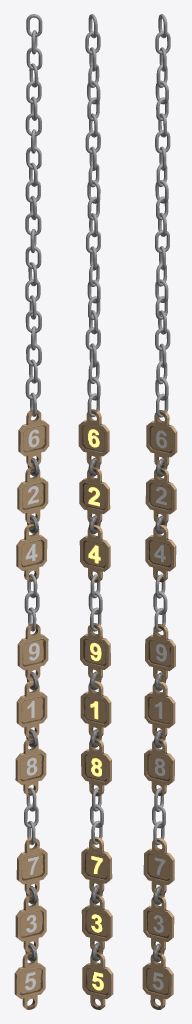
Rendered from lines.glb.
3 views of the same model, side by side, from view 1: azimuth 30°, elevation 25°; view 2: azimuth 150°, elevation 25°; view 3: azimuth 330°, elevation 25° (orthographic).
Parts seen in each view (by area): view 1: chain.001, chain, lines_5, lines_9, lines_6, lines_8, lines_1, lines_7, lines_2, lines_3, lines_4; view 2: chain.001, chain, lines_5, lines_6, lines_1, lines_7, lines_8, lines_4, lines_9, lines_3, lines_2; view 3: chain.001, chain, lines_5, lines_6, lines_7, lines_1, lines_4, lines_9, lines_3, lines_2, lines_8.
Part boxes in pixels (bbox=[...]): chain.001: bbox=[25, 14, 42, 416]; chain: bbox=[24, 457, 39, 961]; lines_5: bbox=[14, 952, 45, 1009]; lines_9: bbox=[17, 623, 48, 681]; lines_6: bbox=[18, 409, 49, 466]; lines_8: bbox=[15, 738, 46, 795]; lines_1: bbox=[16, 681, 47, 738]; lines_7: bbox=[16, 837, 47, 895]; lines_2: bbox=[17, 467, 48, 524]; lines_3: bbox=[15, 895, 46, 952]; lines_4: bbox=[16, 524, 47, 581]; chain.001: bbox=[85, 14, 100, 417]; chain: bbox=[88, 457, 103, 961]; lines_5: bbox=[82, 952, 113, 1009]; lines_6: bbox=[78, 409, 109, 467]; lines_1: bbox=[80, 680, 111, 738]; lines_7: bbox=[81, 836, 112, 894]; lines_8: bbox=[81, 738, 111, 796]; lines_4: bbox=[79, 524, 110, 582]; lines_9: bbox=[80, 623, 110, 680]; lines_3: bbox=[81, 894, 112, 952]; lines_2: bbox=[79, 467, 110, 524]; chain.001: bbox=[155, 14, 170, 417]; chain: bbox=[152, 458, 167, 962]; lines_5: bbox=[142, 952, 173, 1009]; lines_6: bbox=[146, 410, 177, 467]; lines_7: bbox=[143, 838, 174, 895]; lines_1: bbox=[144, 682, 175, 738]; lines_4: bbox=[145, 525, 176, 582]; lines_9: bbox=[145, 624, 175, 681]; lines_3: bbox=[143, 895, 174, 952]; lines_2: bbox=[145, 468, 176, 524]; lines_8: bbox=[144, 739, 174, 795].
Size of the model in its own units: 0.2837 by 8.27 by 0.1567.
Materials: 10 (10 with a texture image).
